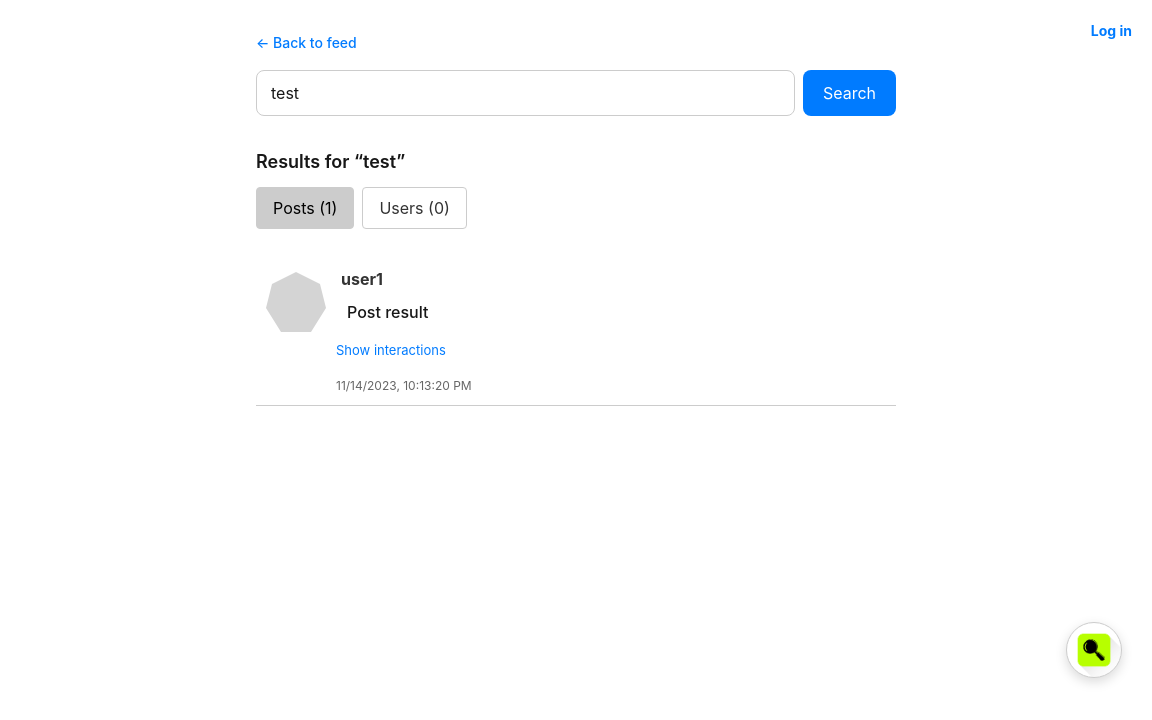
Test: SearchPage › switching tabs shows correct content
Expected: the text "Post result" is shown, [347,302,428,322]
Switch to Users
Click the button "Users (0)" at (415, 208), box [362,187,467,229]
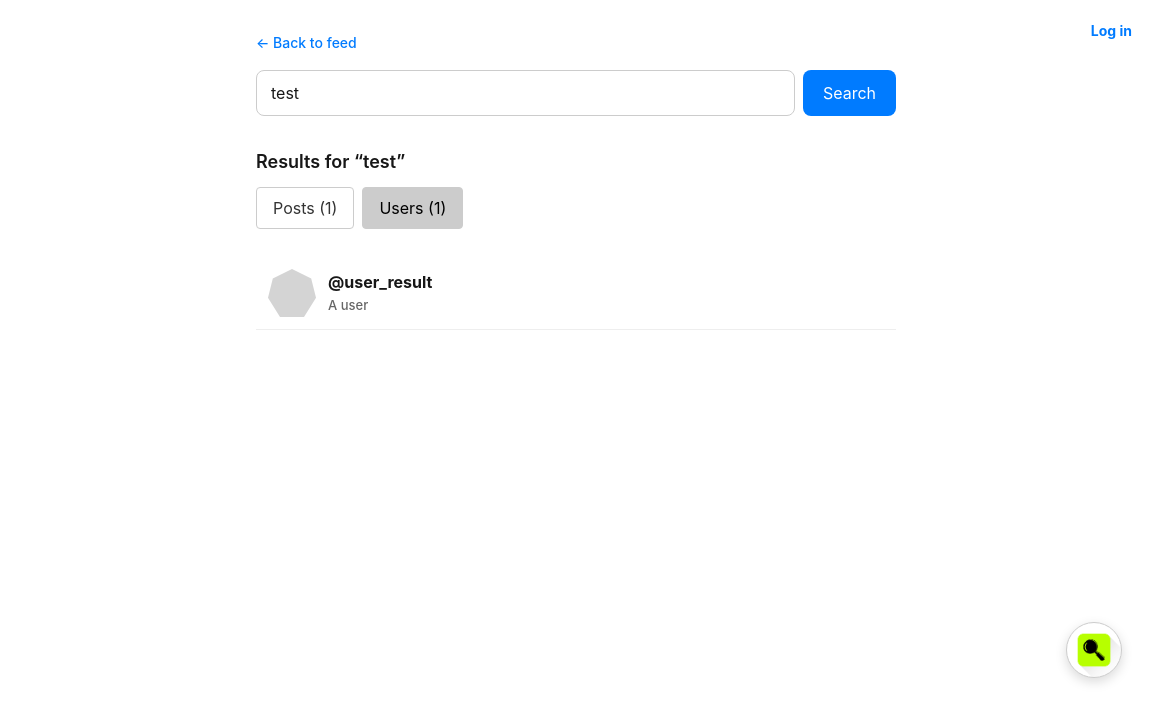
Expected: the text "@user_result" is shown, [328,270,432,294]
Switch back to Posts
Click the button "Posts (1)" at (305, 208), box [256,187,354,229]
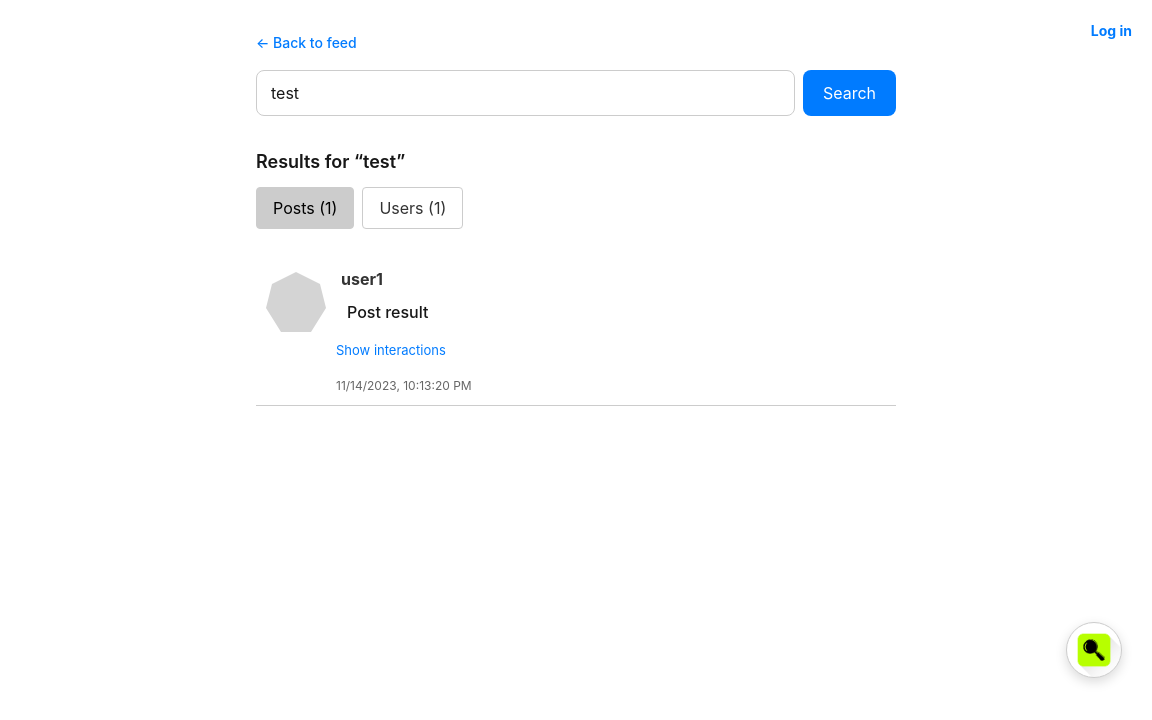
Expected: the text "Post result" is shown, [347,302,428,322]
